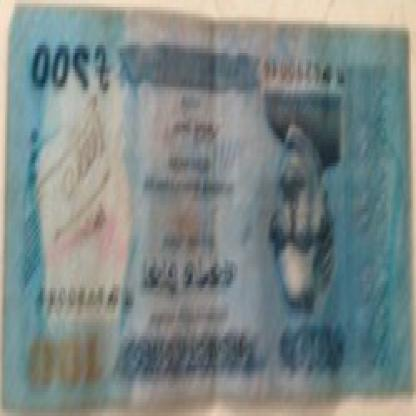one hundred taka: (26, 329, 112, 392), (28, 38, 95, 94), (286, 326, 351, 378)
